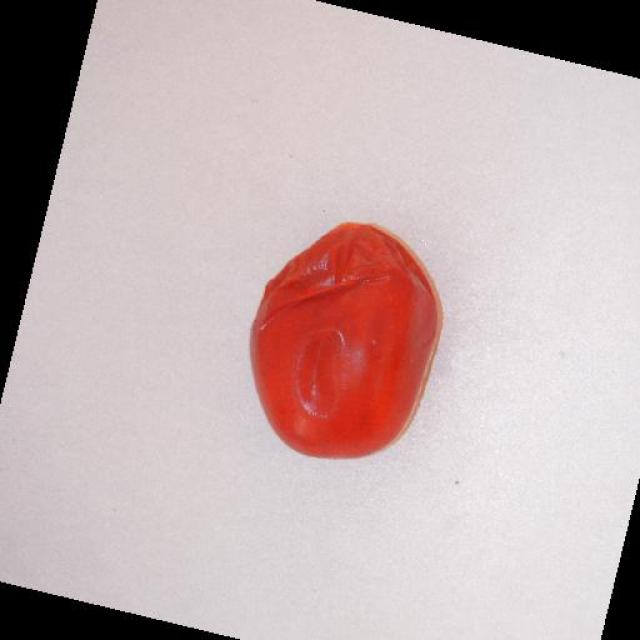Stale_tomato: (236, 212, 459, 466)
